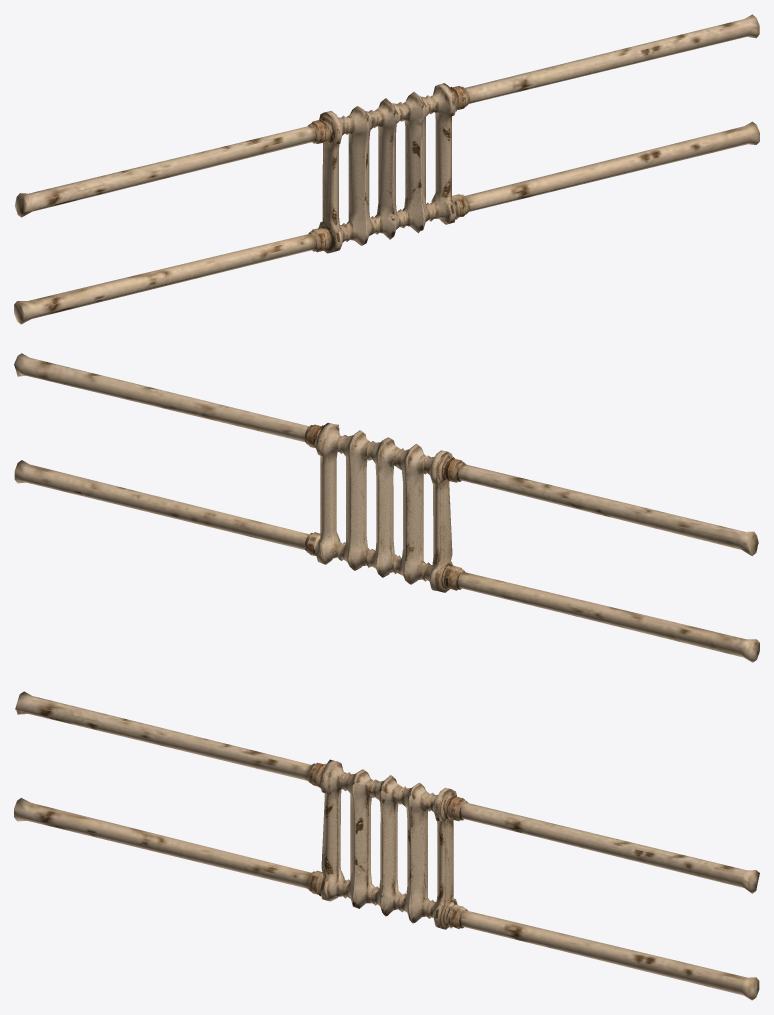
File: radiator.glb
3 renders of one model, top to bottom at view 1: azimuth 30°, elevation 25°; view 2: azimuth 150°, elevation 25°; view 3: azimuth 330°, elevation 25°, orthographic.
Visible parts, largest first — view 1: Mesh_0; view 2: Mesh_0; view 3: Mesh_0.
Part boxes in pixels (left/top/right/bottom): Mesh_0: left=14, top=14, right=759, bottom=324; Mesh_0: left=14, top=353, right=759, bottom=662; Mesh_0: left=14, top=691, right=759, bottom=1000.
Bounding box in the file's own units: 2.79 × 0.5 × 0.1286.
Materials: 1 (1 with a texture image).
